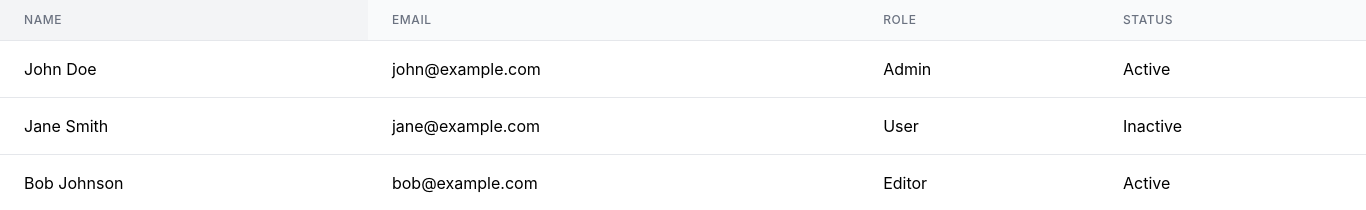
ResponsiveTable Component › handles sorting when clicking on column headers
Note: Click on Name header to sort
What coordinates should you click on to do the following:
click the text "Name"
I would click on:
 (43, 20)
Its box is [24,12,62,27].
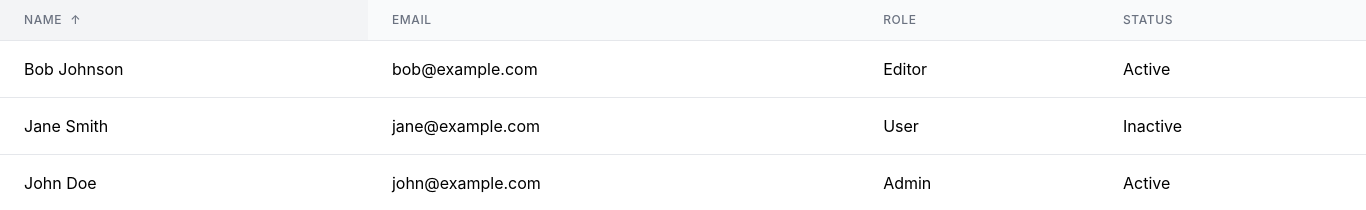
Check: the text "Name" shows "↑", box [70,12,81,27]
Note: Click again to reverse sort
What coordinates should you click on to do the following:
click the text "Name"
I would click on:
 (53, 20)
Its box is [24,12,81,27].
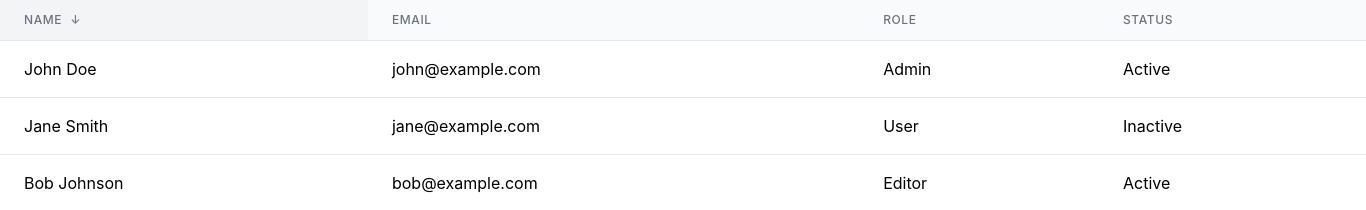
Check: the text "Name" shows "↓", box [70,12,81,27]
